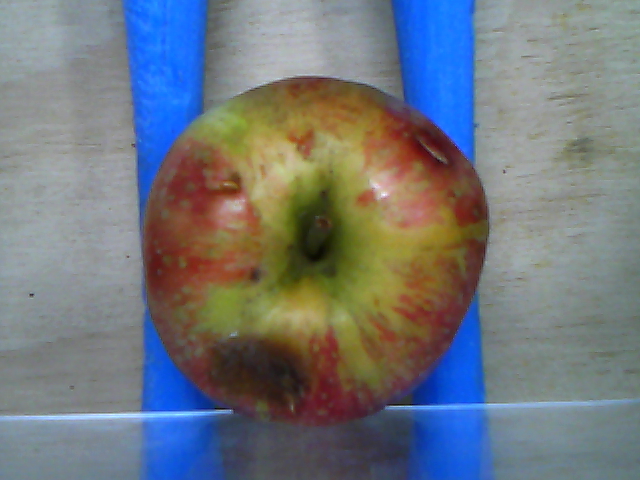bruise: (209, 333, 313, 416)
